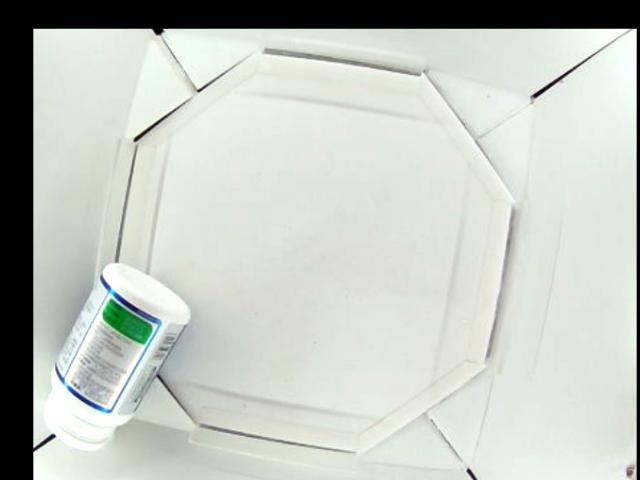Bottle: (38, 256, 191, 449)
